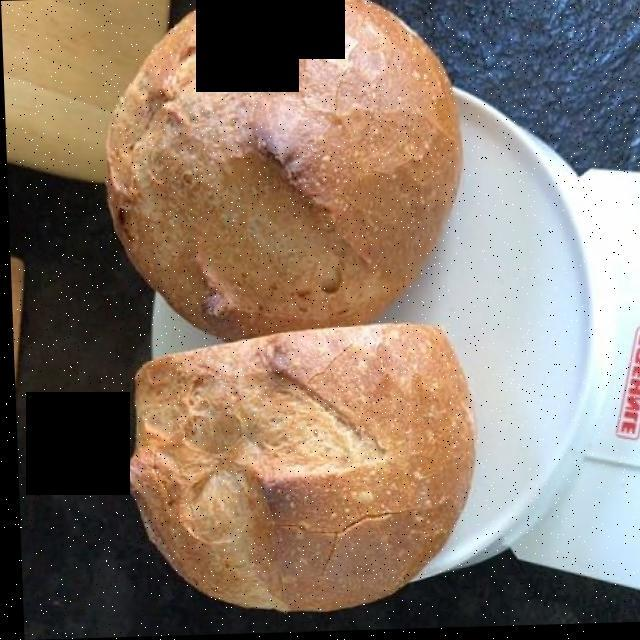bread: (113, 5, 472, 613)
